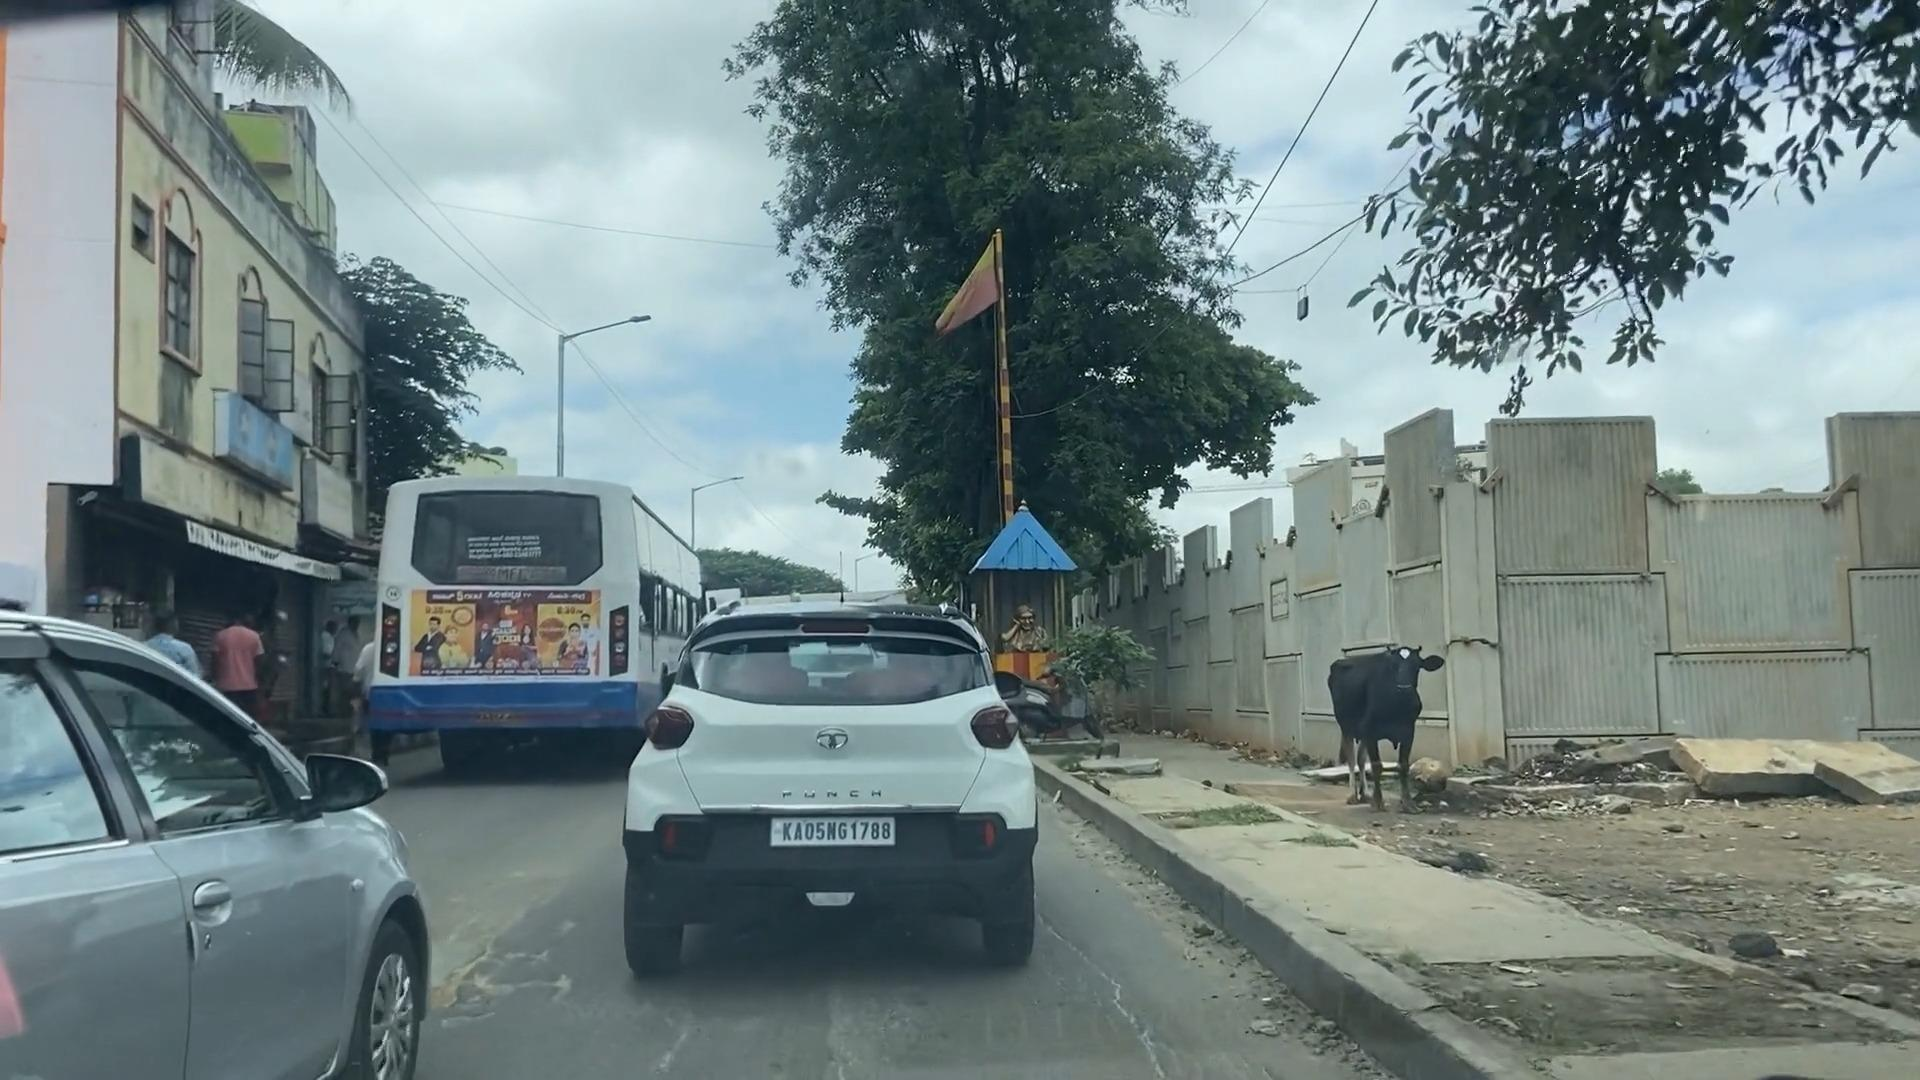LMV: (647, 618, 1006, 939), (375, 469, 630, 735)
RoadDamages: (620, 964, 956, 1080), (442, 909, 568, 1026), (1101, 940, 1168, 1080)
